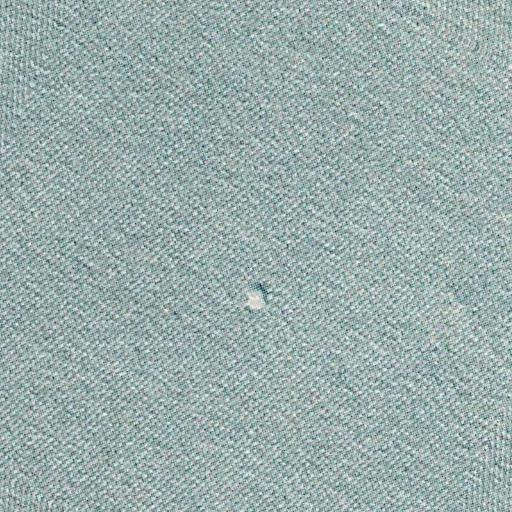knot: (235, 272, 278, 321)
